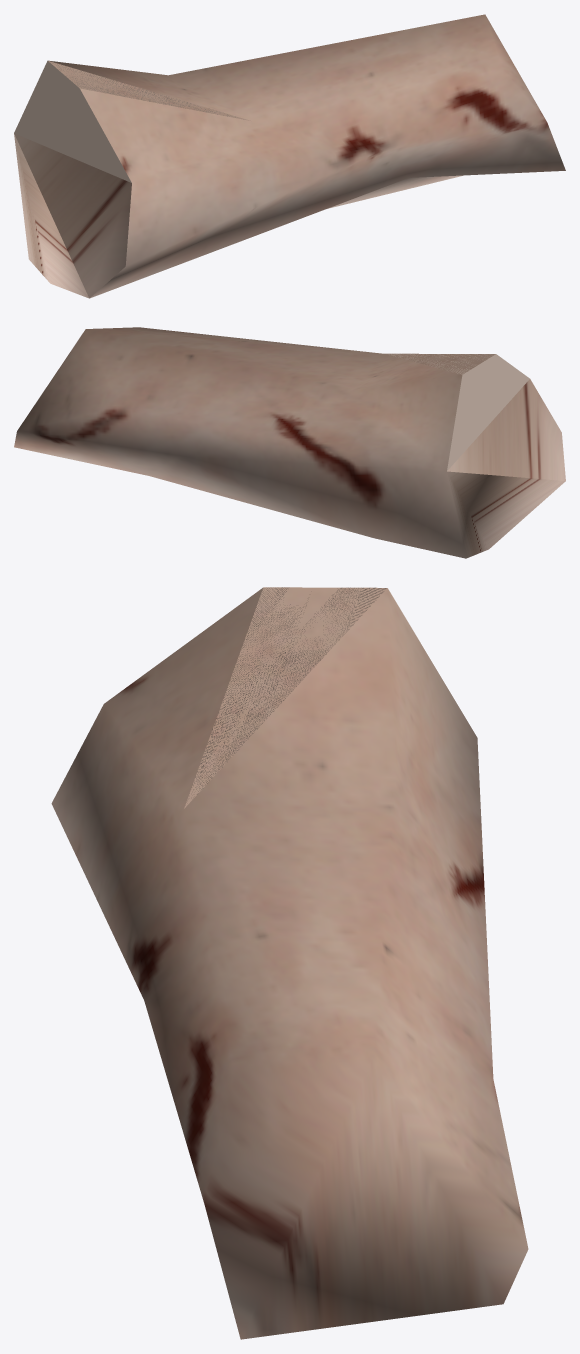
File: gib_arm_1.gltf
3 renders of one model, top to bottom at view 1: azimuth 30°, elevation 25°; view 2: azimuth 150°, elevation 25°; view 3: azimuth 270°, elevation 25°, orthographic. The views are drawn at different scales.
Visible parts, largest first — view 1: Object_6.028; view 2: Object_6.028; view 3: Object_6.028.
Boxes of the visible parts, bbox=[...] form: Object_6.028: bbox=[14, 14, 565, 298]; Object_6.028: bbox=[14, 327, 565, 558]; Object_6.028: bbox=[51, 587, 528, 1339].
Bounding box in the file's own units: 0.3303 × 0.127 × 0.1506.
Materials: 1 (1 with a texture image).
